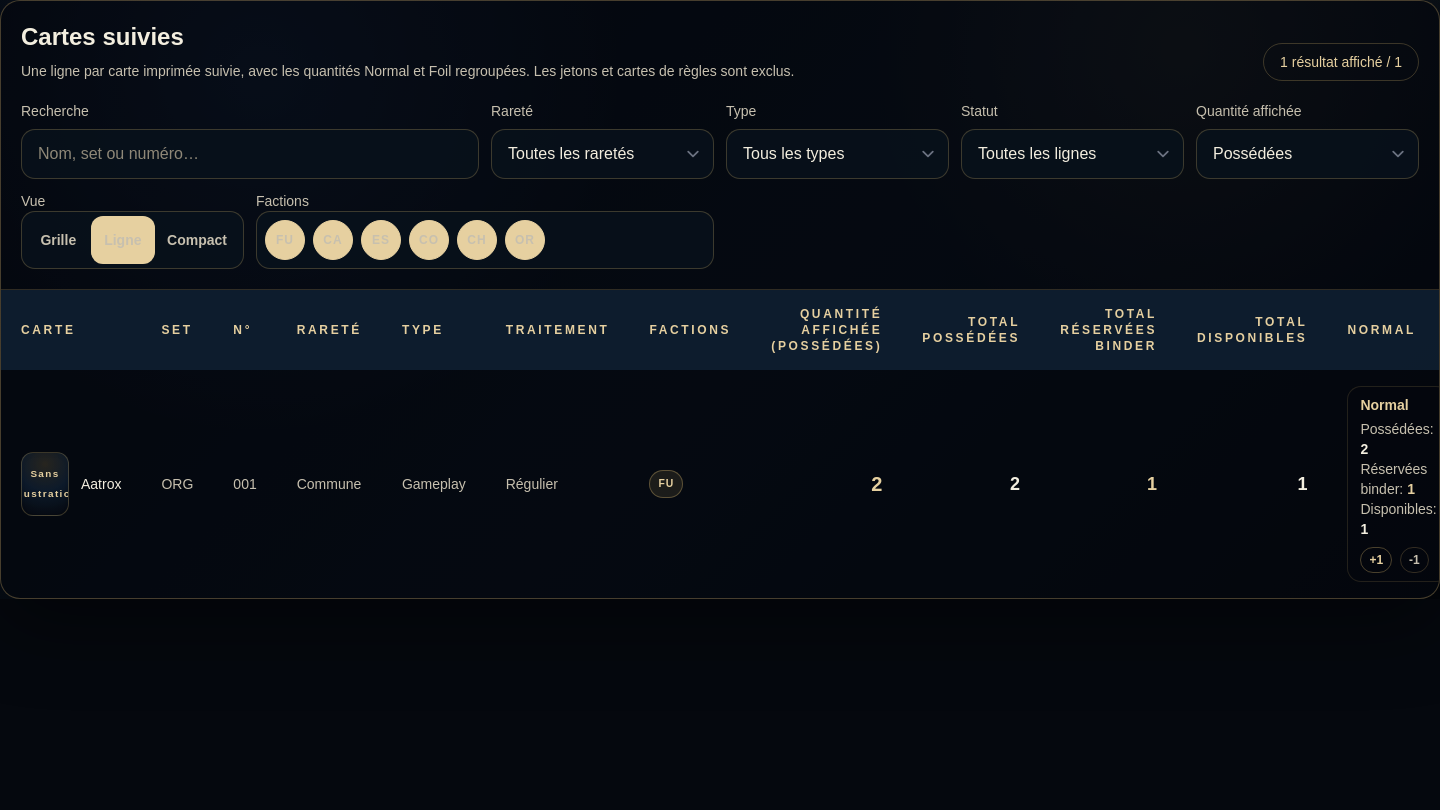
Scenario: CollectionFilters direct quantity controls › renders edit controls in grid and compact views
The width and height of the screenshot is (1440, 810).
Click the button "Grille": (58,240) [26,216,90,264]
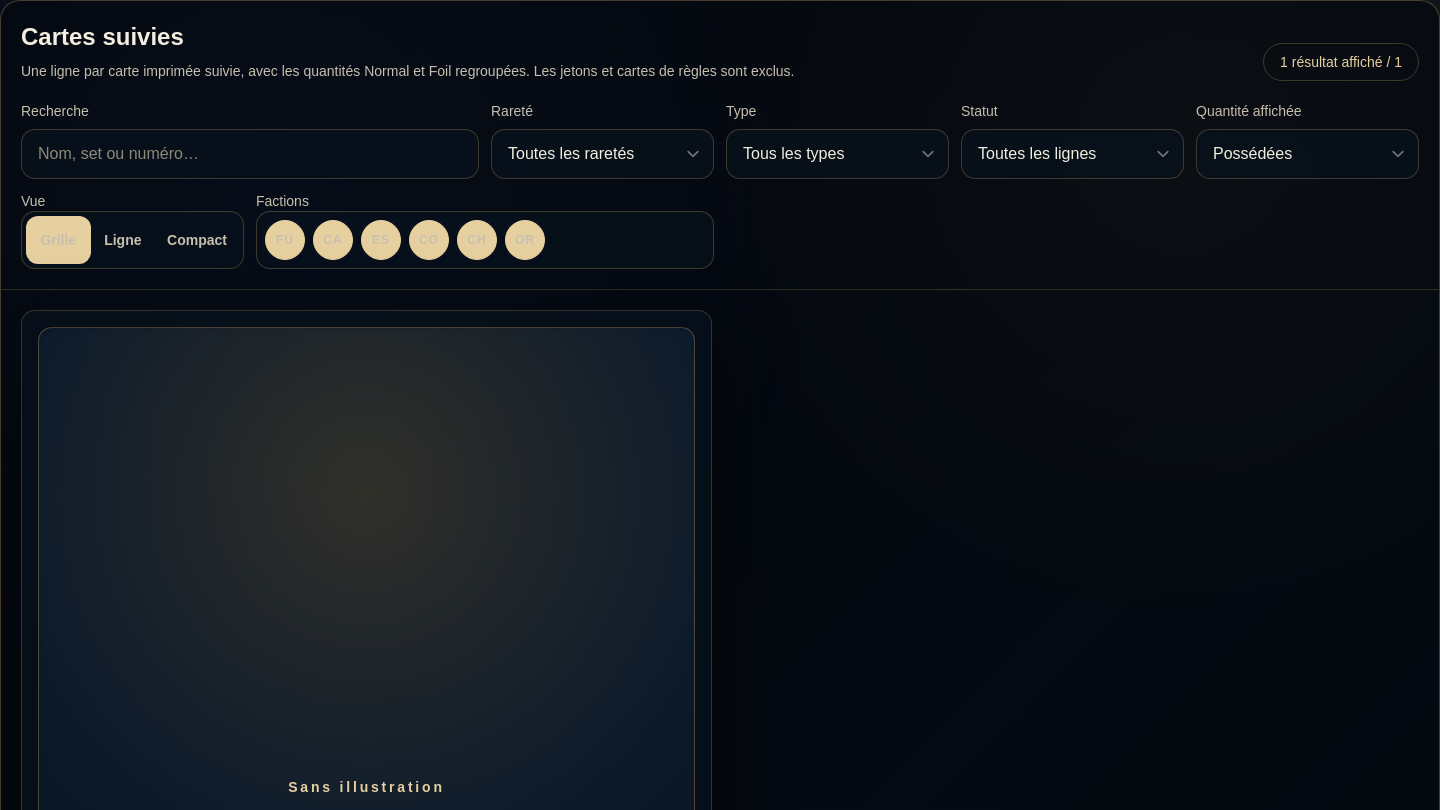
Click the button "Compact": (197,240) [155,216,239,264]
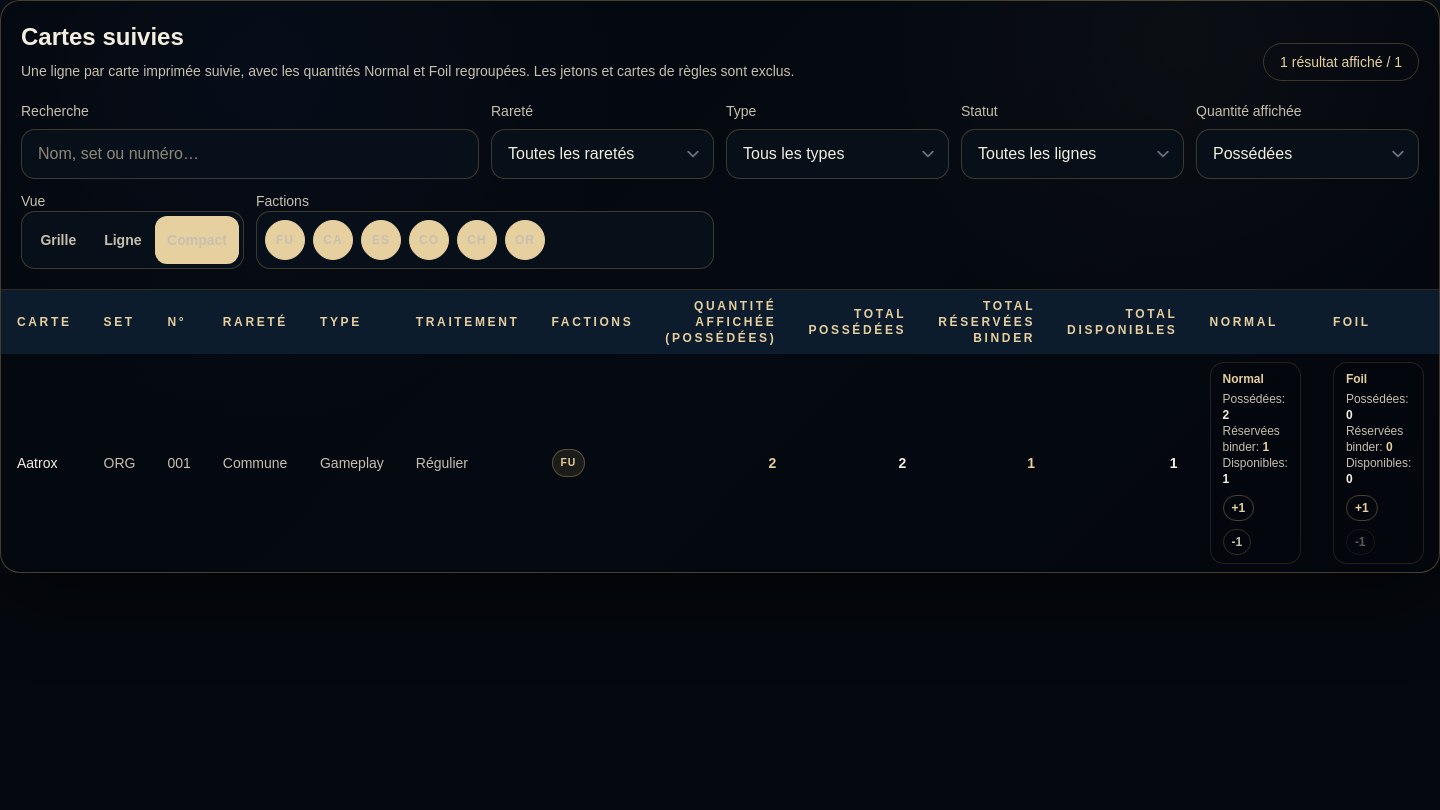
Result: the button named "Ajouter 1 Foil à Aatrox" is shown at [1346,495,1378,521]
Result: the element with test id "collection-compact-view" is shown at [1,290,1439,572]
